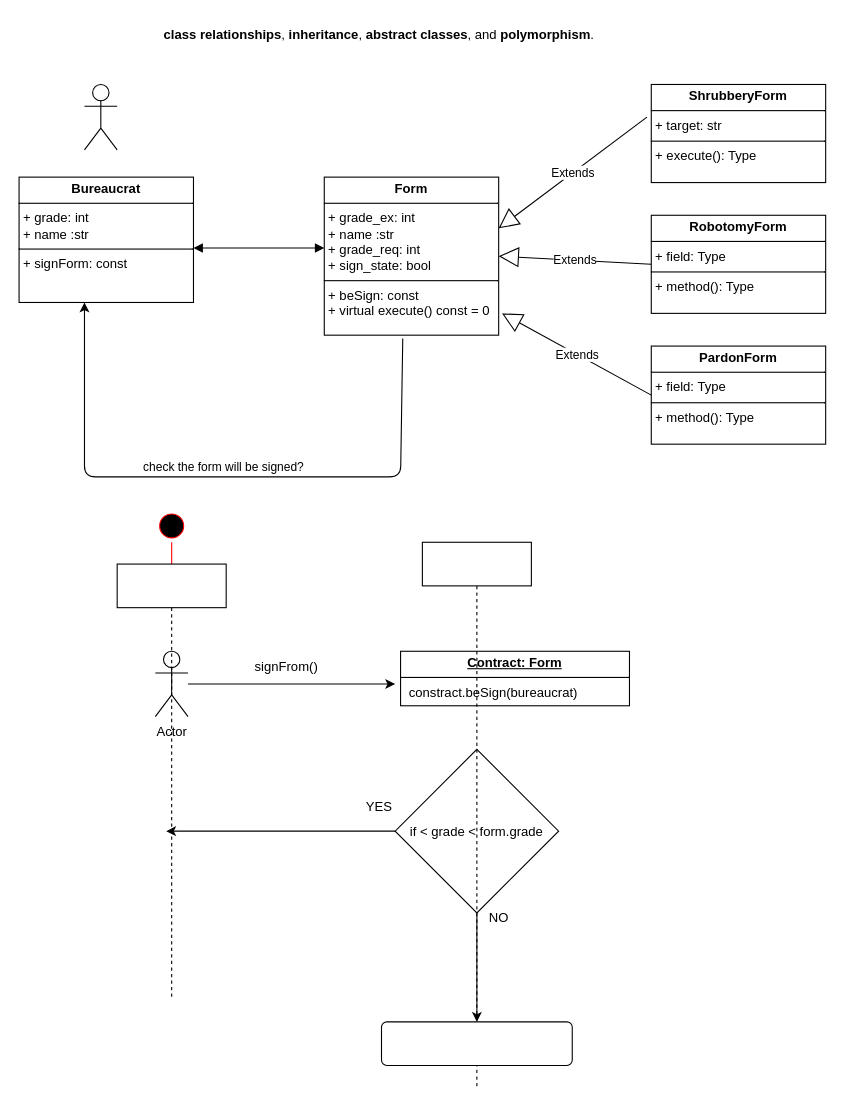
Image size: 845x1106. Some labels were removed from this diagram. Here are the shapes that lost their labels. From the top down, the box of each, then its label:
(83, 83, 117, 150): Bureaucrat
(116, 563, 226, 1000): main()
(421, 541, 531, 1087): Form
(380, 1021, 572, 1065): throw GradeTooLowException()
